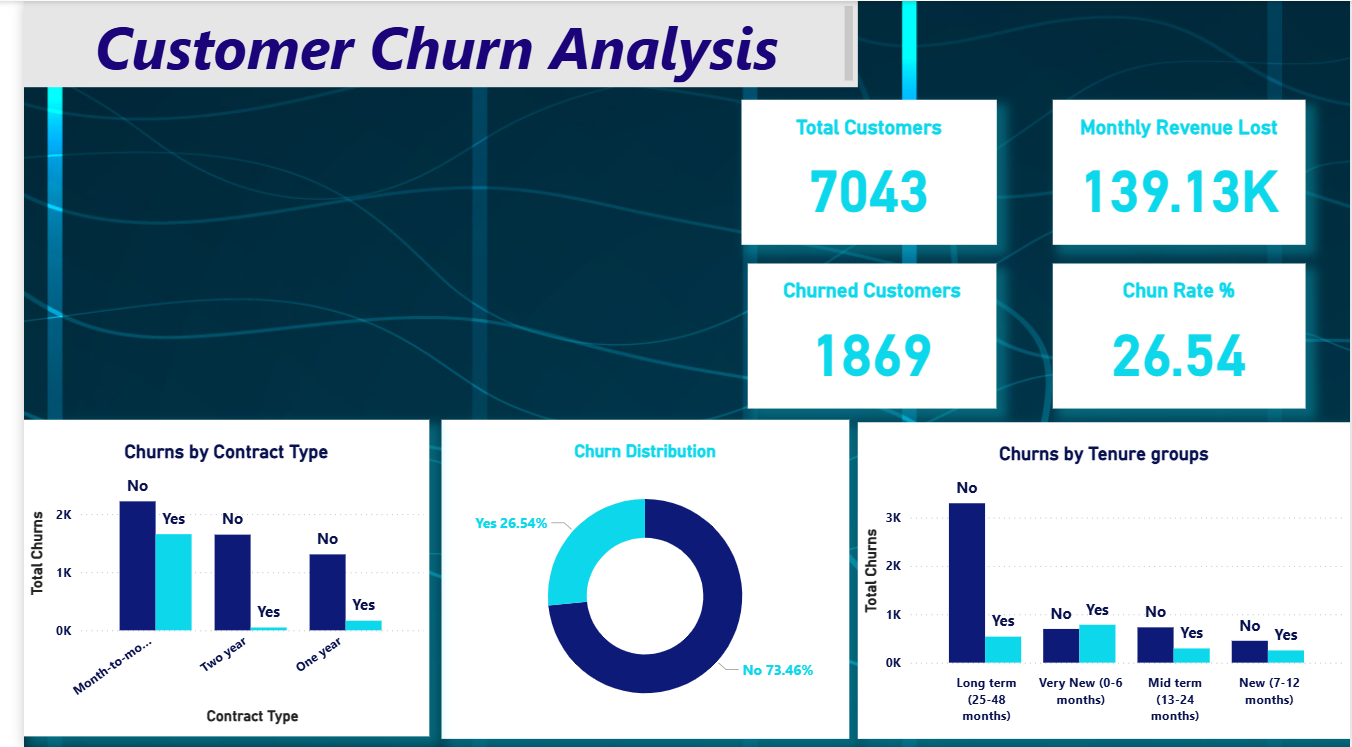

This screenshot's page, from the dashboard's own definition file:
{"tool":"powerbi","page":{"name":"Page 1","canvas":[1280,720],"ordinal":0},"visuals":[{"type":"card","title":"Total Customers","fields":{"Values":["CountNonNull(customer_churn .customerID)"]},"box":[692.5,95.3,246.1,139.9],"z":0},{"type":"card","title":"Churned Customers","fields":{"Values":["customer_churn .churned customers"]},"box":[698.5,253.4,240.1,139.9],"z":1000},{"type":"card","title":"Chun Rate %","fields":{"Values":["customer_churn .churn rate %"]},"box":[992.9,253.4,243.7,139.9],"z":2000},{"type":"card","title":"Monthly Revenue Lost","fields":{"Values":["customer_churn .revenue lost"]},"box":[992.9,95.3,243.7,139.9],"z":3000},{"type":"donutChart","title":"Churn Distribution","fields":{"Y":["CountNonNull(customer_churn .Churn)"],"Category":["customer_churn .Churn"]},"box":[403,412.6,393.3,307.6],"z":4000},{"type":"clusteredColumnChart","title":"Churns by Contract Type","fields":{"Category":["customer_churn .Contract"],"Series":["customer_churn .Churn"],"Y":["CountNonNull(customer_churn .customerID)"]},"box":[0,415,390.9,305.2],"z":5000},{"type":"clusteredColumnChart","title":"Churns by Tenure groups","fields":{"Category":["customer_churn .Tenure Group"],"Y":["CountNonNull(customer_churn .customerID)"],"Series":["customer_churn .Churn"]},"box":[804.7,415,475.3,305.2],"z":6000},{"type":"textbox","box":[0,0,804.7,83.2],"z":7000}]}

Visuals, with their boxes in screenshot pixels (x1, y1, x2, y2), scaled from the page's 1280x720 canvas onto the 1352x747 screenshot:
"Total Customers" card: l=731, t=99, r=991, b=244
"Churned Customers" card: l=738, t=263, r=991, b=408
"Chun Rate %" card: l=1049, t=263, r=1306, b=408
"Monthly Revenue Lost" card: l=1049, t=99, r=1306, b=244
"Churn Distribution" donutChart: l=426, t=428, r=841, b=746
"Churns by Contract Type" clusteredColumnChart: l=0, t=431, r=413, b=746
"Churns by Tenure groups" clusteredColumnChart: l=850, t=431, r=1351, b=746
textbox: l=0, t=0, r=850, b=86
